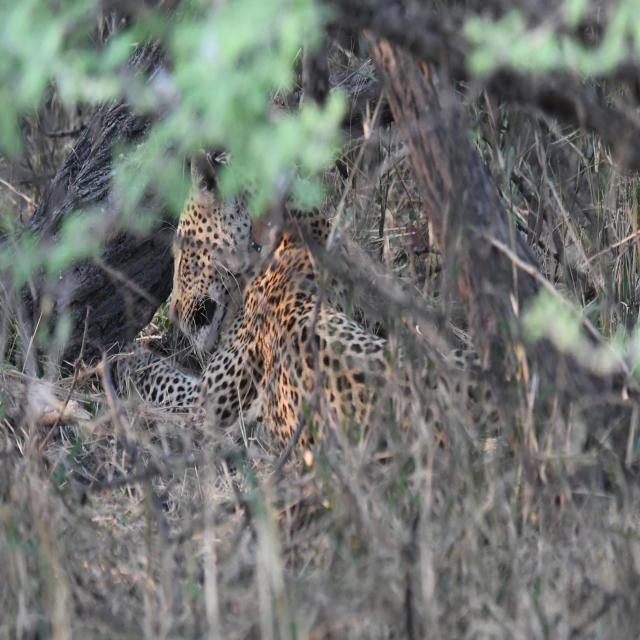Leopard: (109, 172, 518, 453)
